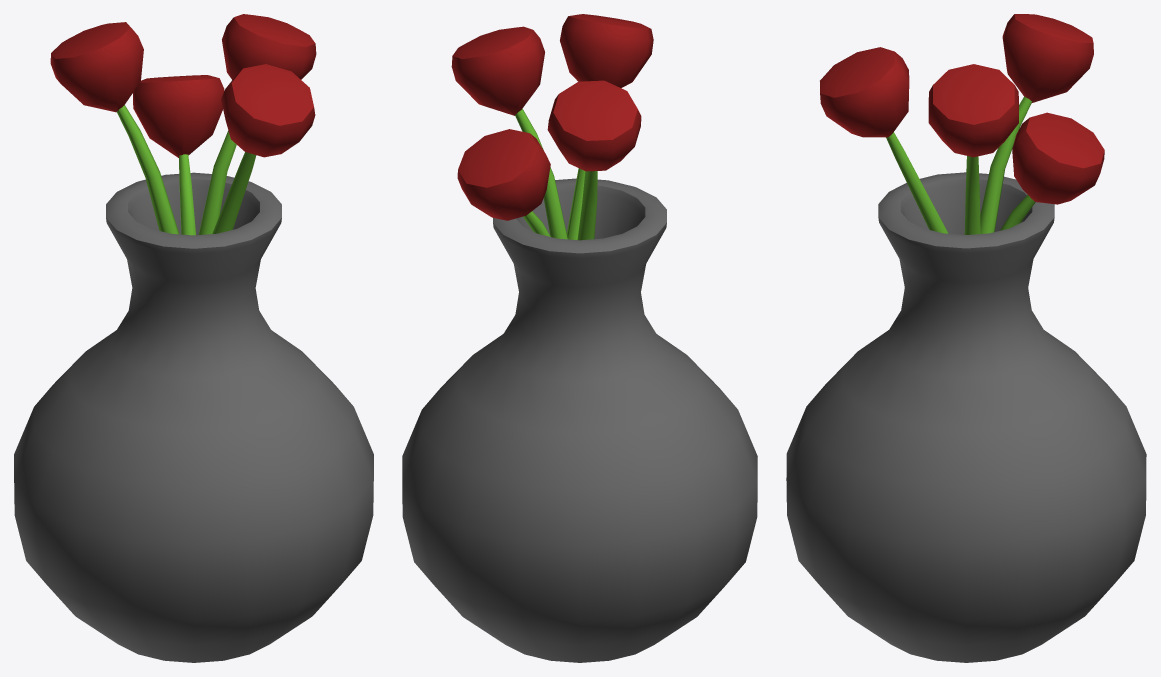
Rendered from SM_flower_room.fbx.
3 views of the same model, side by side, from view 1: azimuth 30°, elevation 25°; view 2: azimuth 150°, elevation 25°; view 3: azimuth 270°, elevation 25° (orthographic).
Parts seen in each view (by area): view 1: Cylinder046; view 2: Cylinder046; view 3: Cylinder046.
Boxes of the visible parts, x1,y1,x2,y2 form: Cylinder046: (14, 14, 373, 662); Cylinder046: (402, 14, 757, 662); Cylinder046: (786, 14, 1146, 662).
Size of the model in its own units: 20.51 by 36.3 by 20.2.
